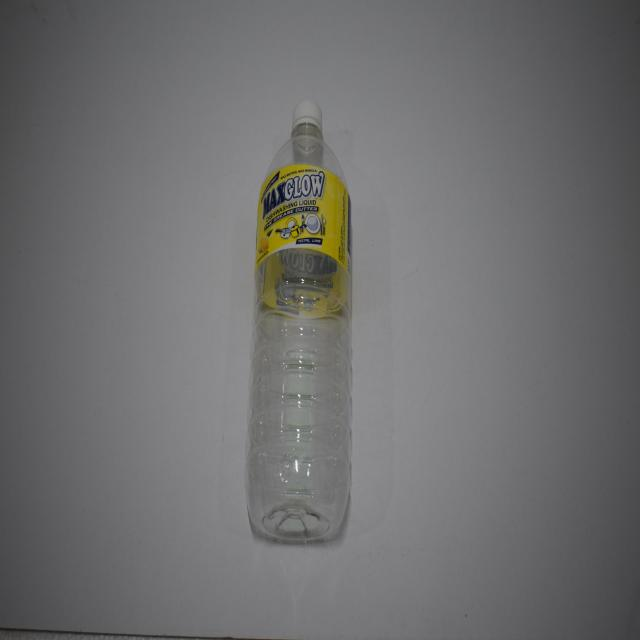plastic: (254, 95, 356, 539)
